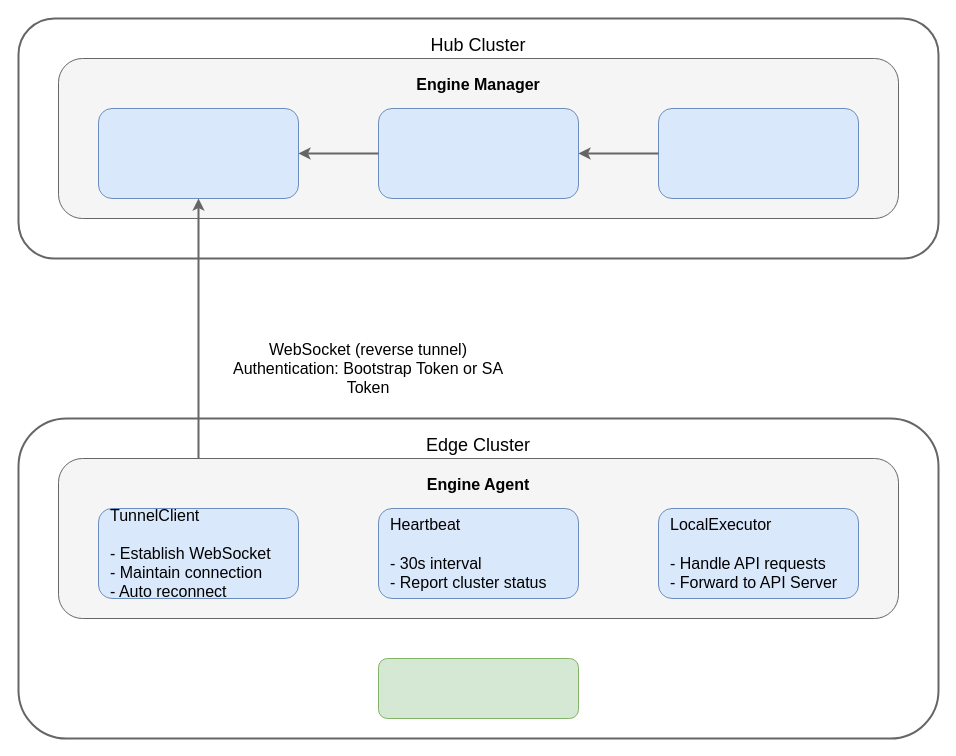
This 956x756 diagram has some shape labels left out. Here are the shapes that lost their labels. From the top down, the centre of each, then its label:
the point at 198,153: TunnelServer WebSocket endpoint: /connect
the point at 478,153: ClientManager Route requests based on mode
the point at 758,153: ClusterReconciler Watch clusters update status
the point at 478,688: Local API Server kubernetes.default.svc
